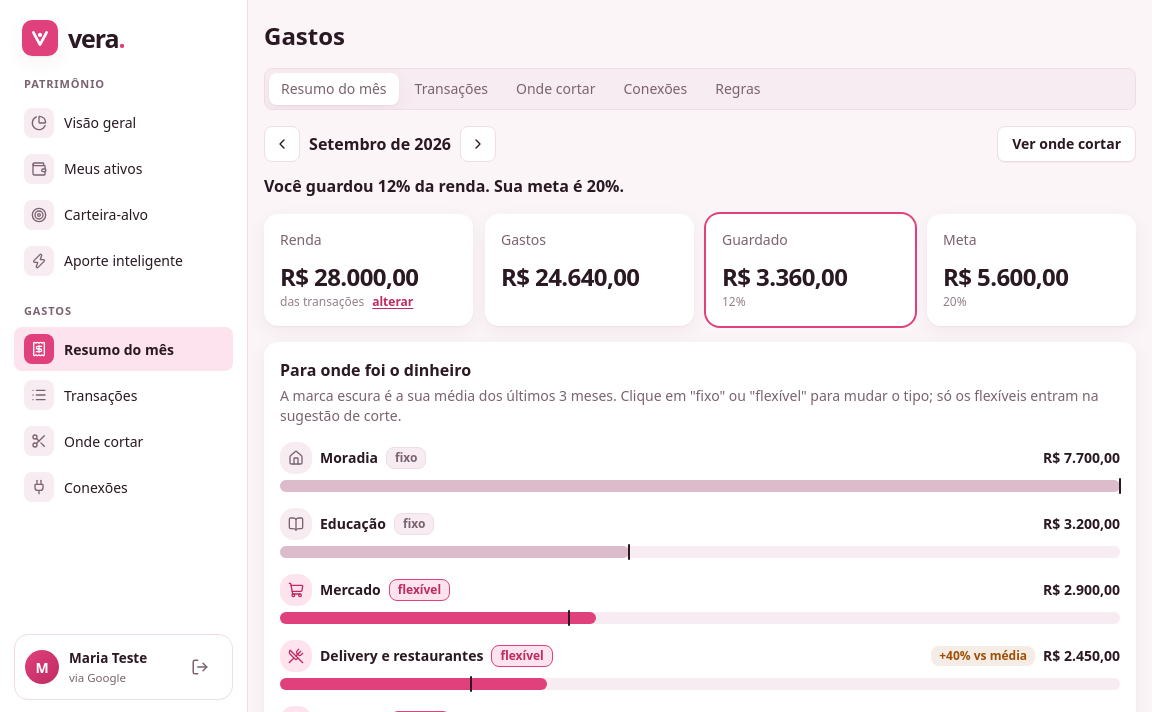
Test: resumo do mês: interações › o link alterar abre o diálogo da origem da renda
Expected: the text "Setembro de 2026" is shown, [308, 132, 452, 156]
Step 1. Click the button with aria-label "Alterar a origem da renda" → coordinates (393, 302), box [372, 294, 413, 310]
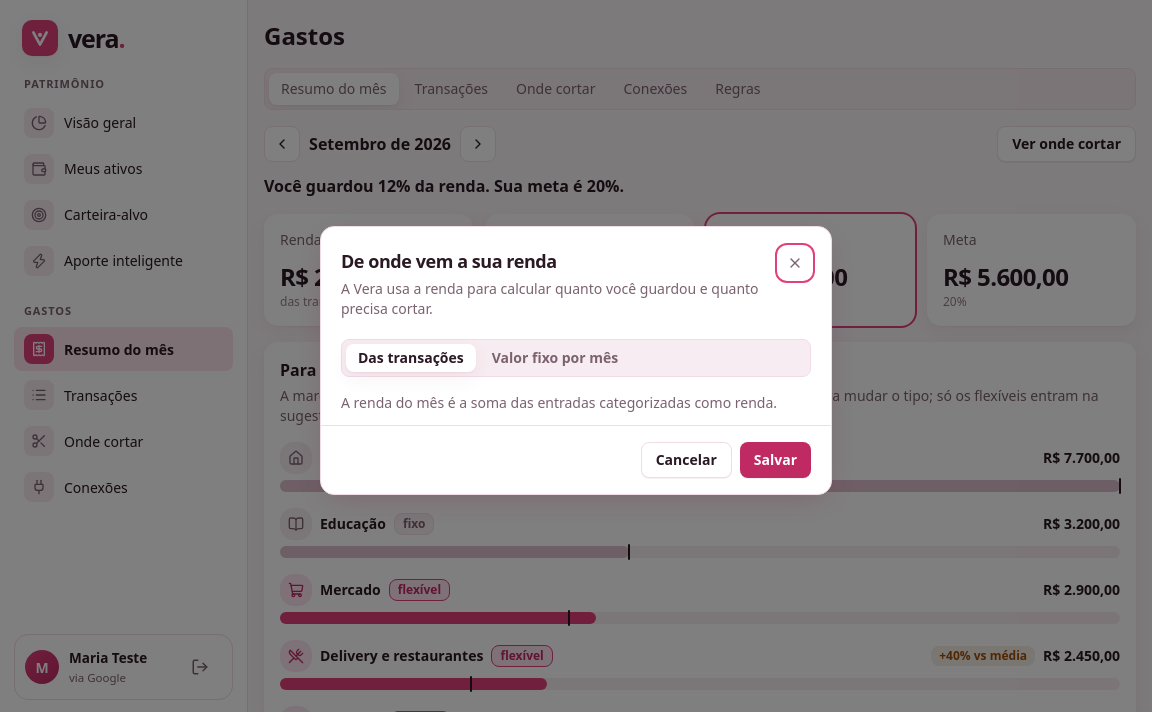
Result: the heading "De onde vem a sua renda" is shown at [341, 248, 557, 272]
